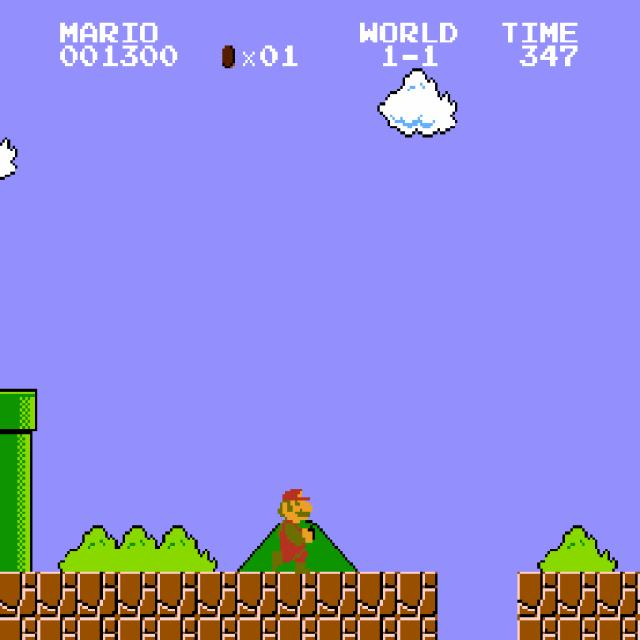big_mario: (270, 480, 312, 574)
pipe: (0, 434, 37, 480), (0, 480, 37, 526), (0, 526, 37, 571)
pipe_head: (0, 389, 37, 434)
undestructible_block: (37, 572, 78, 617), (77, 572, 118, 617), (117, 572, 158, 617), (157, 572, 198, 617), (197, 572, 238, 617), (237, 572, 278, 617), (277, 572, 318, 617), (317, 572, 358, 617), (357, 572, 398, 617), (397, 572, 438, 617), (517, 572, 558, 617), (557, 572, 598, 617), (597, 572, 638, 617), (0, 572, 37, 617), (37, 617, 78, 640), (77, 617, 118, 640), (117, 617, 158, 640), (157, 617, 198, 640), (197, 617, 238, 640), (237, 617, 278, 640), (277, 617, 318, 640), (317, 617, 358, 640), (357, 617, 398, 640), (397, 617, 438, 640), (517, 617, 558, 640), (557, 617, 598, 640), (597, 617, 638, 640), (0, 617, 37, 640), (637, 571, 640, 617), (637, 617, 640, 639)
